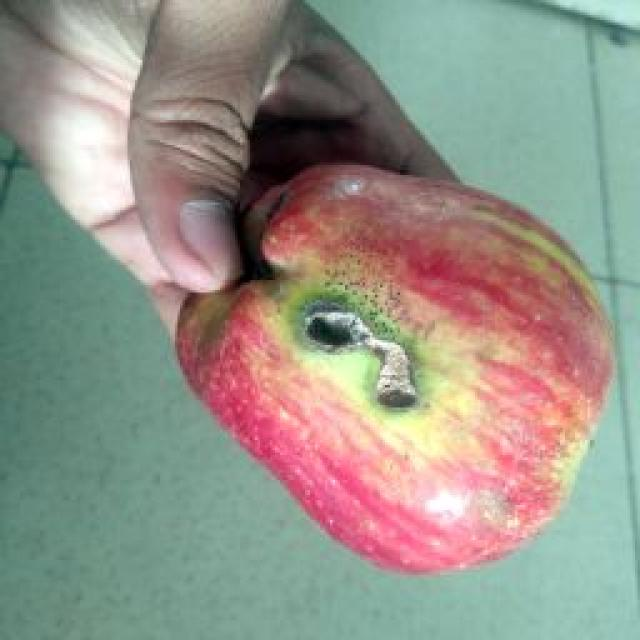Bad_Apple: (176, 165, 611, 572)
